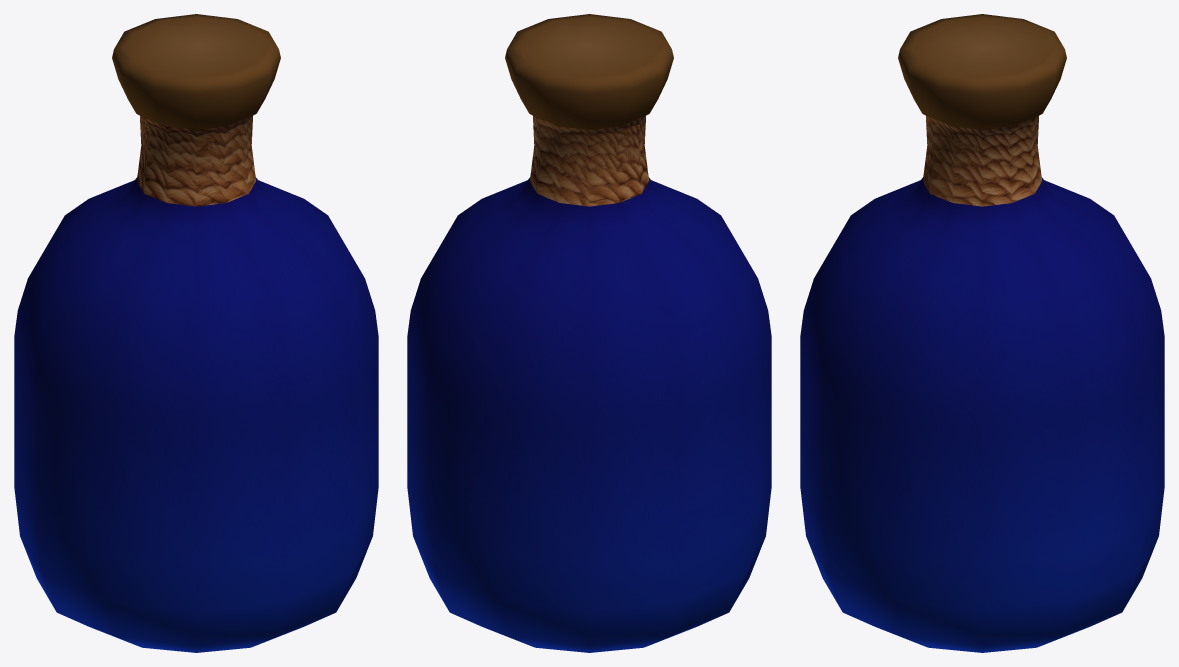
File: Potion2.fbx
3 views of the same model, side by side, from view 1: azimuth 30°, elevation 25°; view 2: azimuth 150°, elevation 25°; view 3: azimuth 270°, elevation 25° (orthographic).
Visible parts, largest first — view 1: Cylinder007; view 2: Cylinder007; view 3: Cylinder007.
Part boxes in pixels (x1,y1,x2,y2): Cylinder007: (14,14,378,652); Cylinder007: (407,14,771,652); Cylinder007: (800,14,1164,652).
Size of the model in its own units: 0.5404 by 0.9256 by 0.5348.
